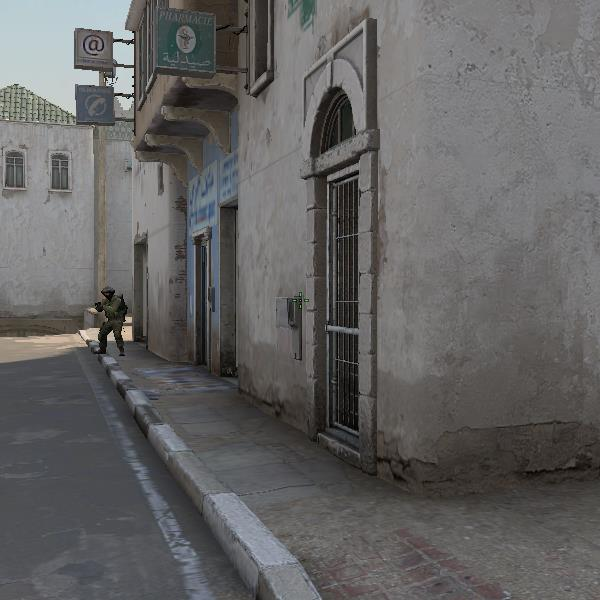ct_body: (89, 285, 130, 358)
ct_head: (100, 287, 115, 302)
